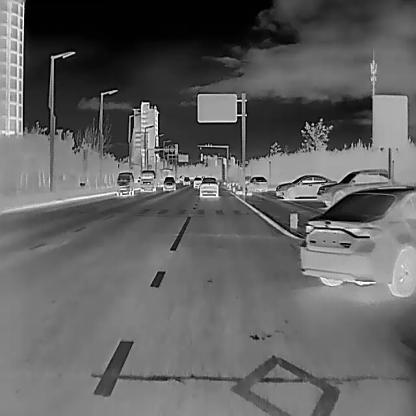car: (300, 184, 416, 298), (314, 170, 394, 205), (274, 172, 335, 198), (115, 171, 134, 196), (198, 176, 219, 198), (139, 169, 156, 192), (246, 174, 266, 192), (162, 175, 175, 191), (192, 176, 200, 187), (183, 174, 189, 184)
